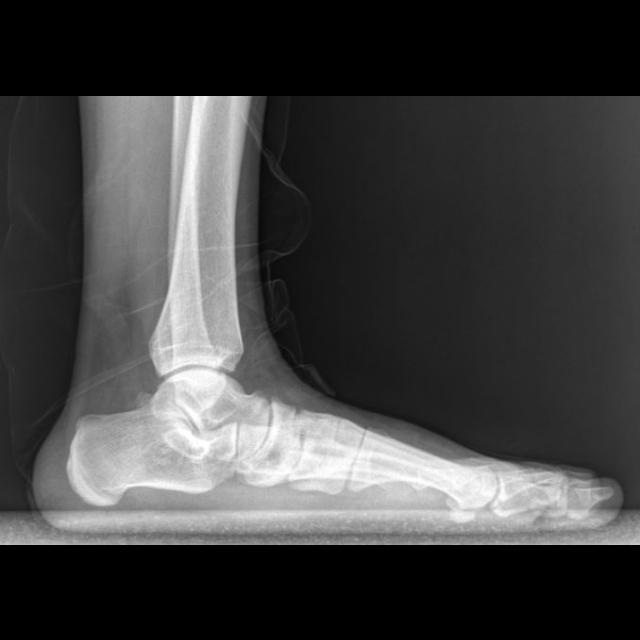a: (66, 384, 237, 505)
b: (238, 399, 303, 487)
c: (346, 429, 496, 507)
